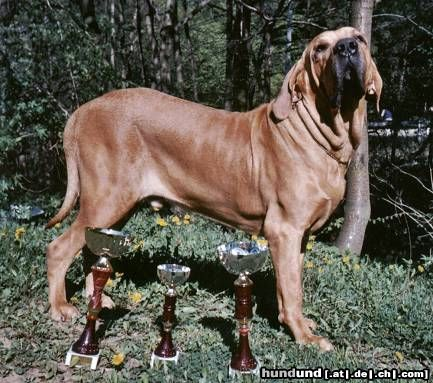fila_brasileiro: (43, 26, 384, 355)
